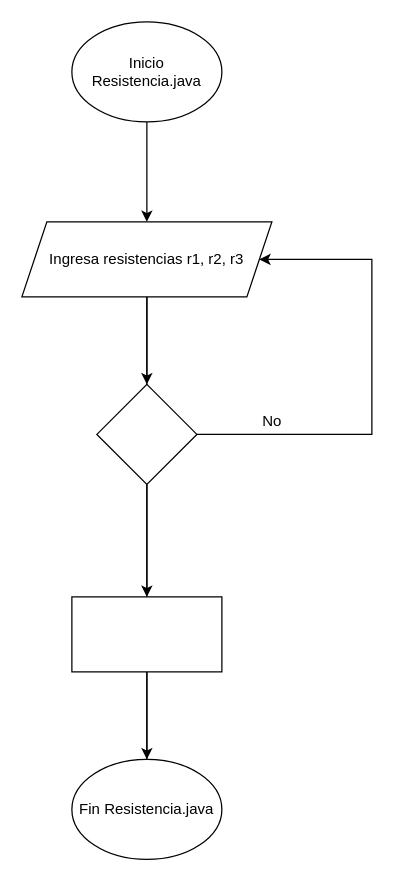
Image size: 404x881. Some labels were removed from this diagram. The box of each missing label's shape, as (x1, y1, x2, y2) in pixels:
Calcula resistencia total: (71, 596, 222, 672)
r es > a 0?: (96, 383, 197, 484)
